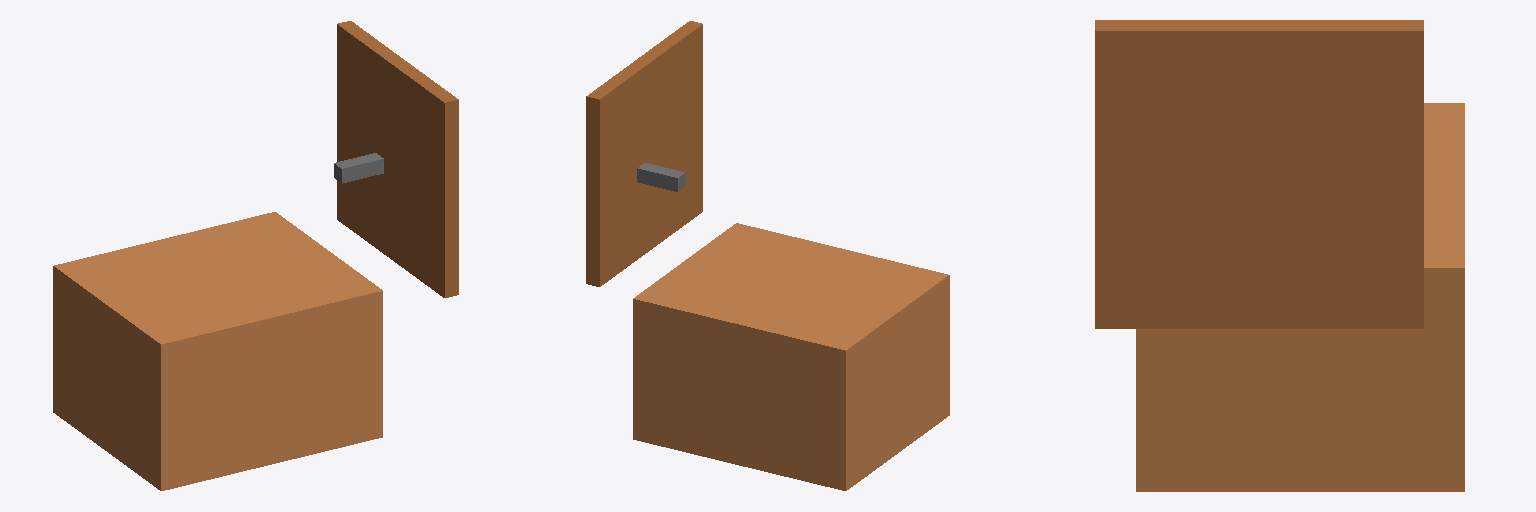
URDF robot description (table_claw_hammer_swing_side):
<?xml version="1.0"?>
<robot name="table_claw_hammer_swing_side">
  <link name="box">
    <visual>
      <material name="wood">
        <color rgba="0.82 0.56 0.35 1.0"/>
      </material>
      <origin xyz="0 0 0"/>
      <geometry>
        <box size="0.475 0.4 0.3"/>
      </geometry>
    </visual>
    <collision>
      <origin xyz="0 0 0"/>
      <geometry>
        <box size="0.475 0.4 0.3"/>
      </geometry>
    </collision>
    <!-- Wall -->
    <visual>
      <material name="wall">
        <color rgba="0.72 0.48 0.28 1.0"/>
      </material>
      <origin xyz="0.355 -0.05 0.33"/>
      <geometry>
        <box size="0.03 0.4 0.4"/>
      </geometry>
    </visual>
    <collision>
      <origin xyz="0.355 -0.05 0.33"/>
      <geometry>
        <box size="0.03 0.4 0.4"/>
      </geometry>
    </collision>
    <!-- Nail (horizontal, sticking out of wall in -x direction) -->
    <visual>
      <material name="grey">
        <color rgba="0.5 0.5 0.5 1.0"/>
      </material>
      <origin xyz="0.295 -0.01 0.31"/>
      <geometry>
        <box size="0.09 0.03 0.03"/>
      </geometry>
    </visual>
    <collision>
      <origin xyz="0.295 -0.01 0.31"/>
      <geometry>
        <box size="0.09 0.03 0.03"/>
      </geometry>
    </collision>
    <inertial>
      <mass value="500"/>
      <friction value="1.0"/>
      <inertia ixx="1000.0" ixy="0.0" ixz="0.0" iyy="1000.0" iyz="0.0" izz="1000.0"/>
    </inertial>
  </link>
</robot>

--- Render facts (derived) ---
3 views of the same robot in one strip: view 1: azimuth 30°, elevation 25°; view 2: azimuth 150°, elevation 25°; view 3: azimuth 270°, elevation 25° (orthographic).
Robot: table_claw_hammer_swing_side — 1 links, 0 joints (none); root link box; default pose: all joints at 0.
Visible links, largest first — view 1: box; view 2: box; view 3: box.
Boxes of the visible links, x1,y1,x2,y2 form: box: (53, 21, 458, 490); box: (586, 21, 949, 490); box: (1095, 20, 1464, 491).
Size in the robot's own frame: 0.6075 by 0.45 by 0.68 metres.
Geometry: primitives only (box / cylinder / sphere), no mesh files.
